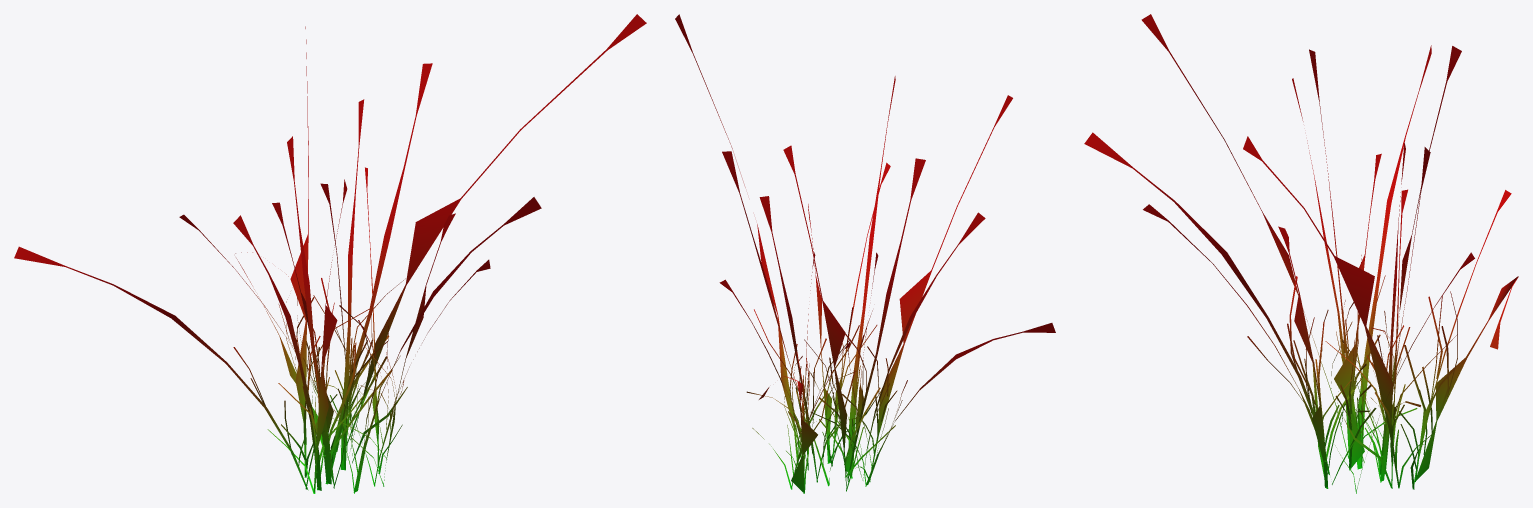
The model's file is Tundra Grass_LOD5_Var32_wk2oaeyqx.fbx.
The picture shows the model from 3 angles, left to right: view 1: azimuth 30°, elevation 25°; view 2: azimuth 150°, elevation 25°; view 3: azimuth 270°, elevation 25°; orthographic projection. The views are drawn at different scales.
Visible parts, largest first — view 1: _1aai_Var32_LOD5; view 2: _1aai_Var32_LOD5; view 3: _1aai_Var32_LOD5.
Boxes of the visible parts, x1,y1,x2,y2 form: _1aai_Var32_LOD5: (14, 14, 646, 493); _1aai_Var32_LOD5: (675, 14, 1055, 493); _1aai_Var32_LOD5: (1084, 14, 1518, 493).
Size of the model in its own units: 82.26 by 65.41 by 55.82.
